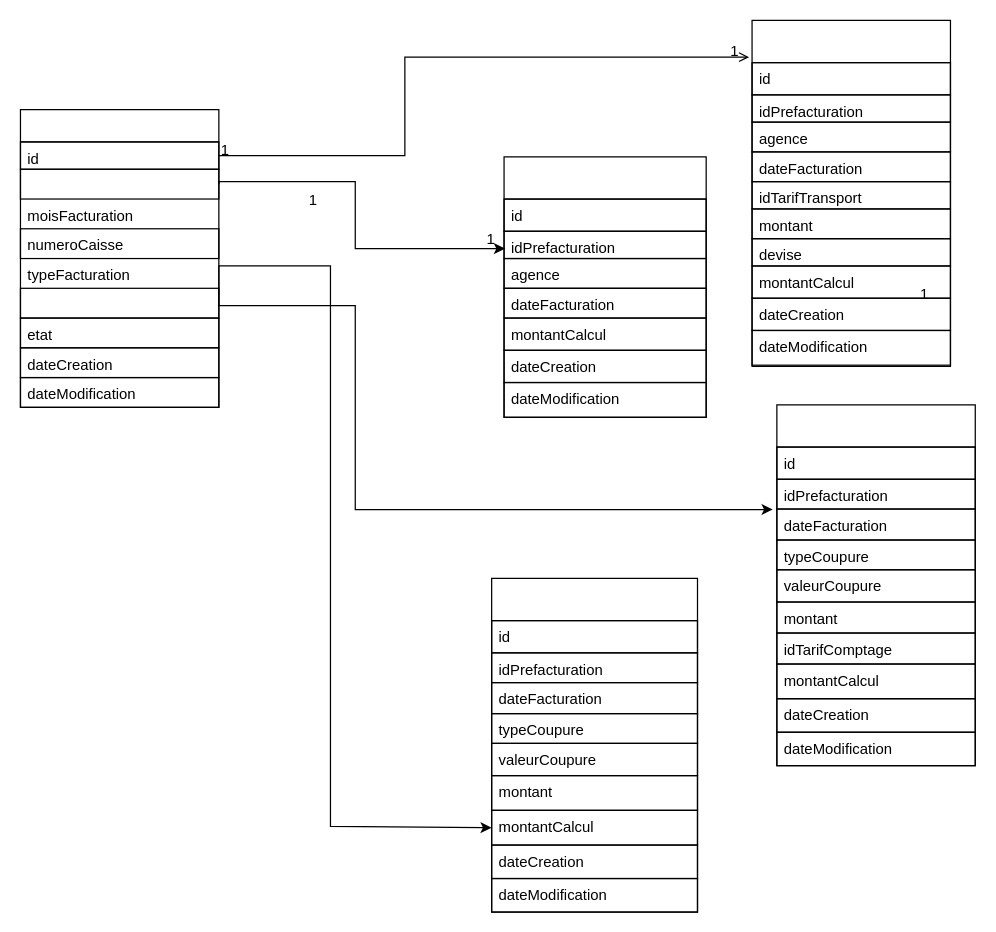
This 996x932 diagram has some shape labels left out. The box of each missing label's shape, as (x1, y1, x2, y2) in pixels:
anneeFacturation: (19, 168, 219, 199)
Prefacturation: (19, 108, 219, 407)
PrefacturationComptage: (776, 404, 975, 766)
PrefacturationComptagePrest: (490, 577, 698, 912)
PrefacturationTransport: (751, 19, 950, 366)
PrefacturationTransportPrest: (503, 156, 706, 417)
sourceFacturation: (19, 287, 219, 318)
